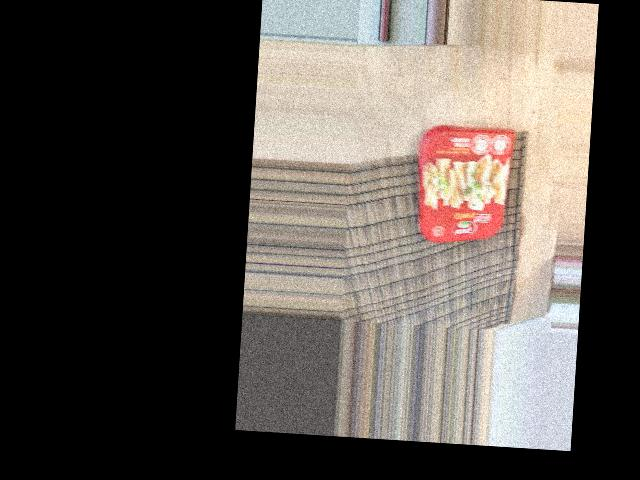cheese: (341, 156, 474, 254)
